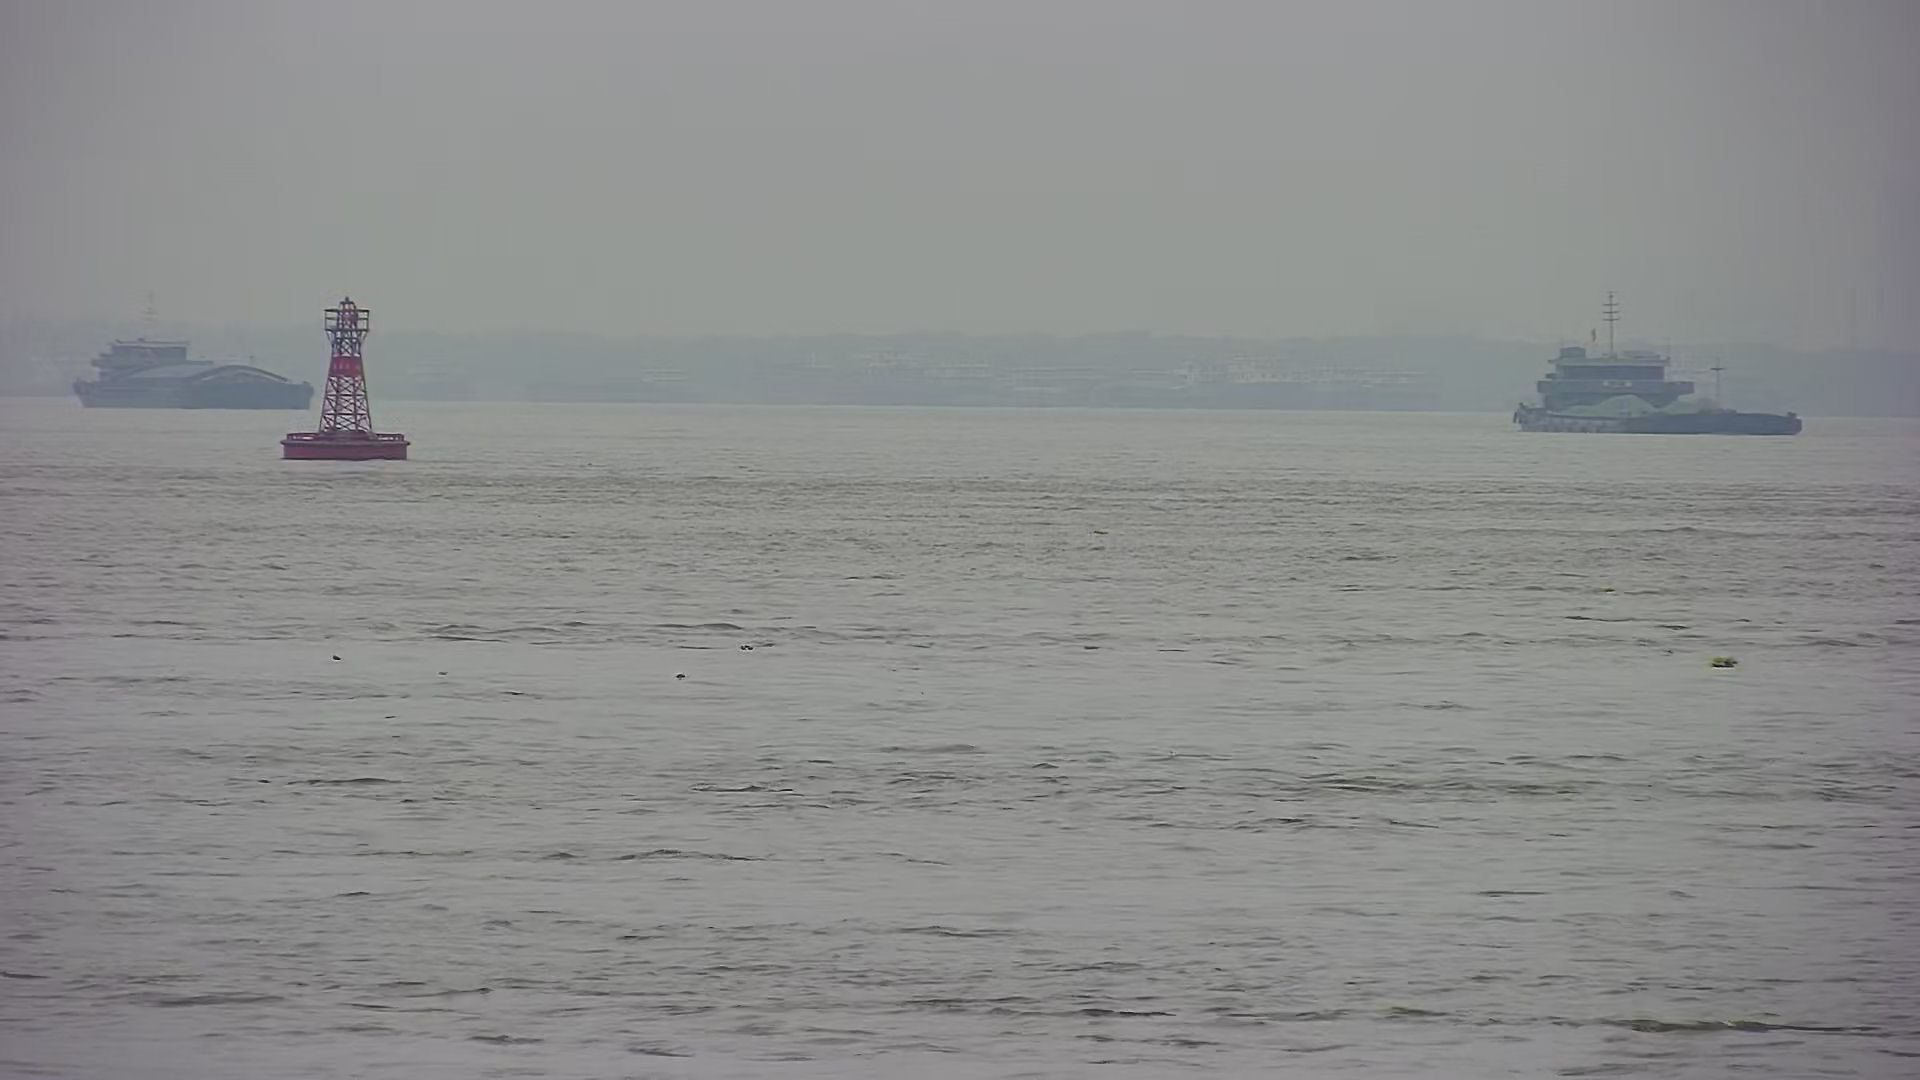buoy: (277, 280, 429, 469)
ship: (1491, 316, 1829, 440), (55, 280, 323, 415)
